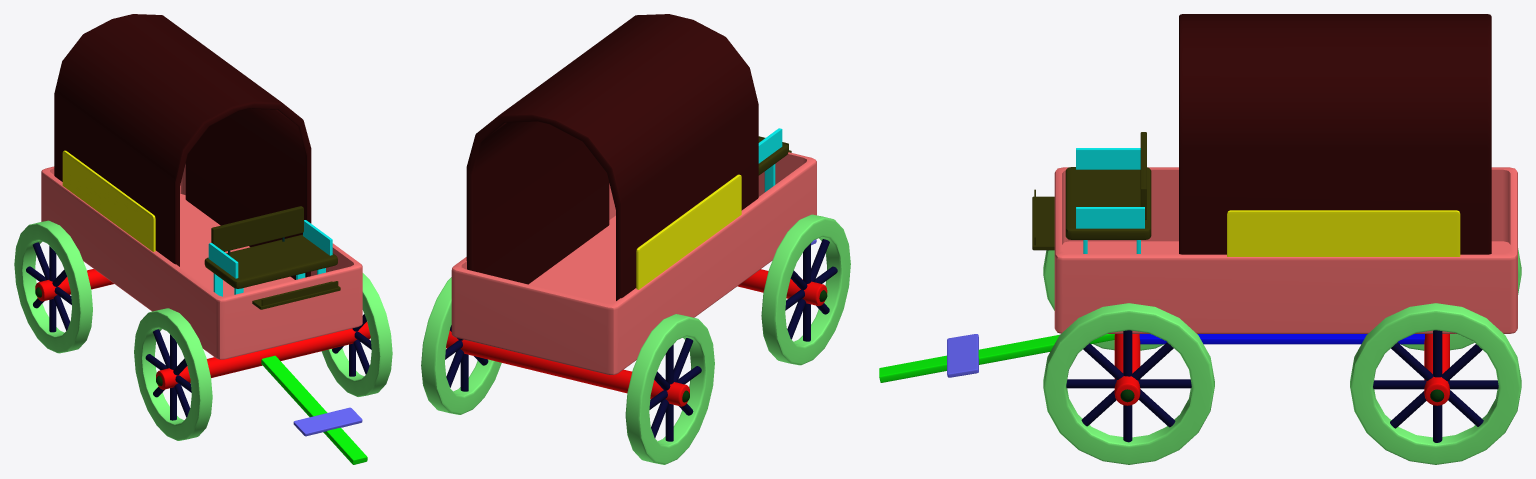
Rendered from Wagon_Combined.fbx.
3 renders of one model, left to right at view 1: azimuth 30°, elevation 25°; view 2: azimuth 150°, elevation 25°; view 3: azimuth 270°, elevation 25°, orthographic. The views are drawn at different scales.
Parts seen in each view (by area): view 1: pCylinder3; view 2: pCylinder3; view 3: pCylinder3.
Part boxes in pixels (x1,y1,x2,y2): pCylinder3: (14,14,392,464); pCylinder3: (421,14,850,464); pCylinder3: (879,14,1521,464).
Size of the model in its own units: 3.7 by 4.85 by 7.49.
